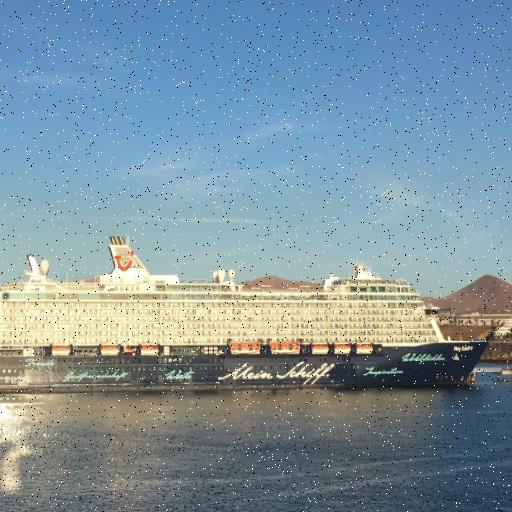cruises: (1, 232, 491, 398)
